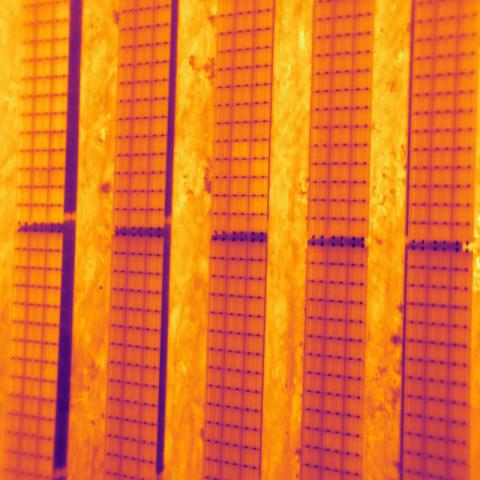fault: (231, 140, 251, 160)
